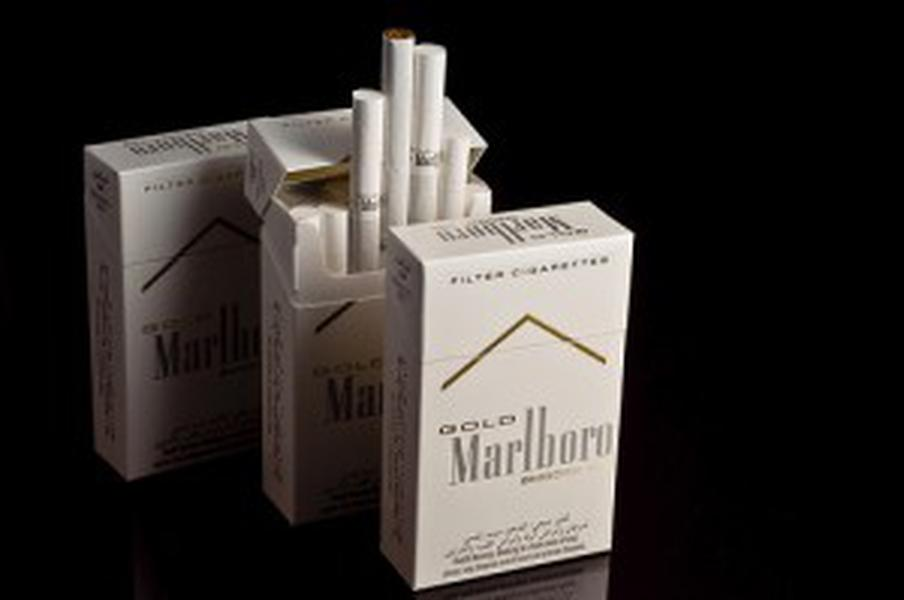marlboro_gold: (421, 251, 621, 555), (121, 166, 255, 475), (295, 249, 387, 515)
